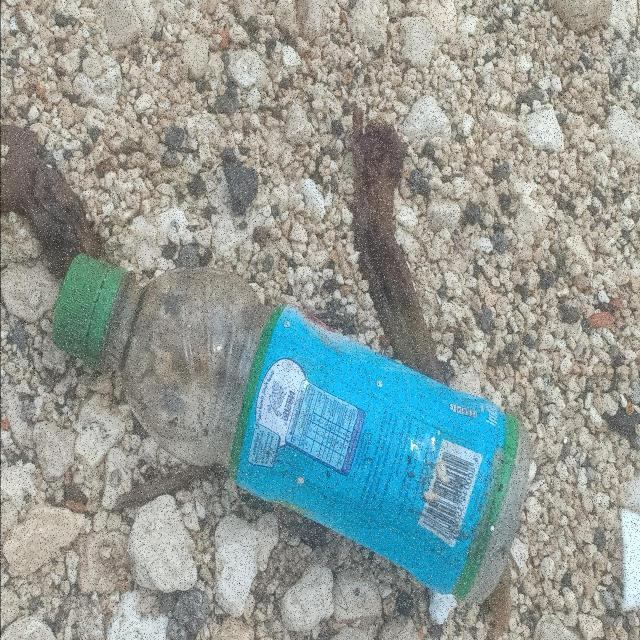plastic_waste: (52, 253, 533, 605)
